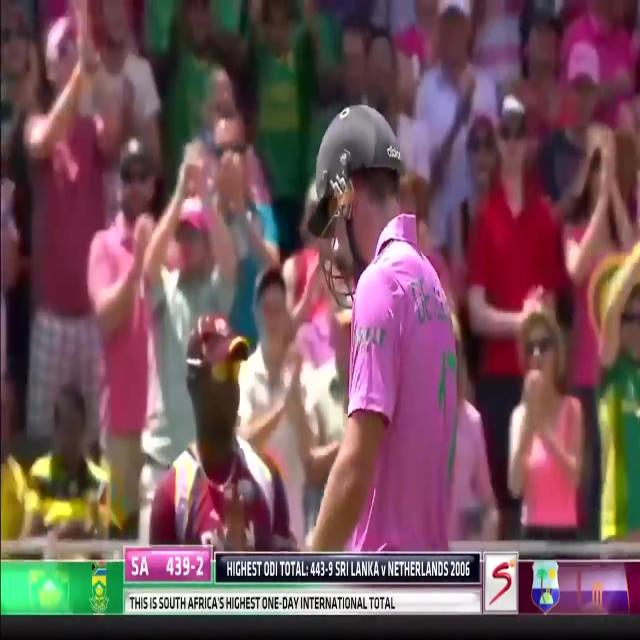Ball: (311, 109, 493, 552)
